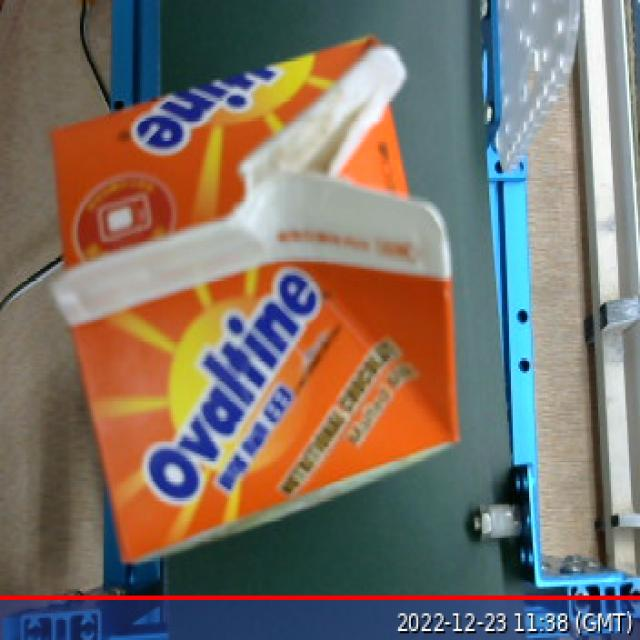non_white_jug: (20, 8, 469, 580)
